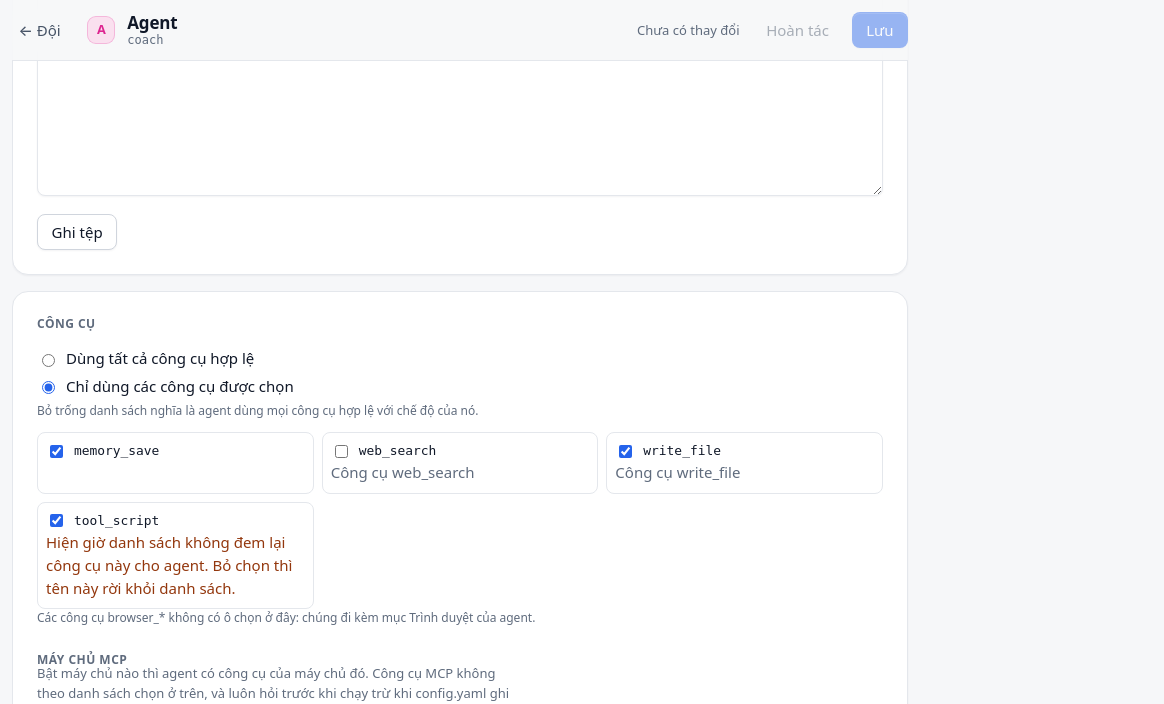
Test: the chosen list, when it is switched on › goes back to the list the file has, as it is written, after a detour through every tool
The image size is (1164, 704).
(page scrolled)
Step 1. Click the radio button labelled "Dùng tất cả công cụ hợp lệ" → {"x": 48, "y": 360}, box [42,354,55,367]
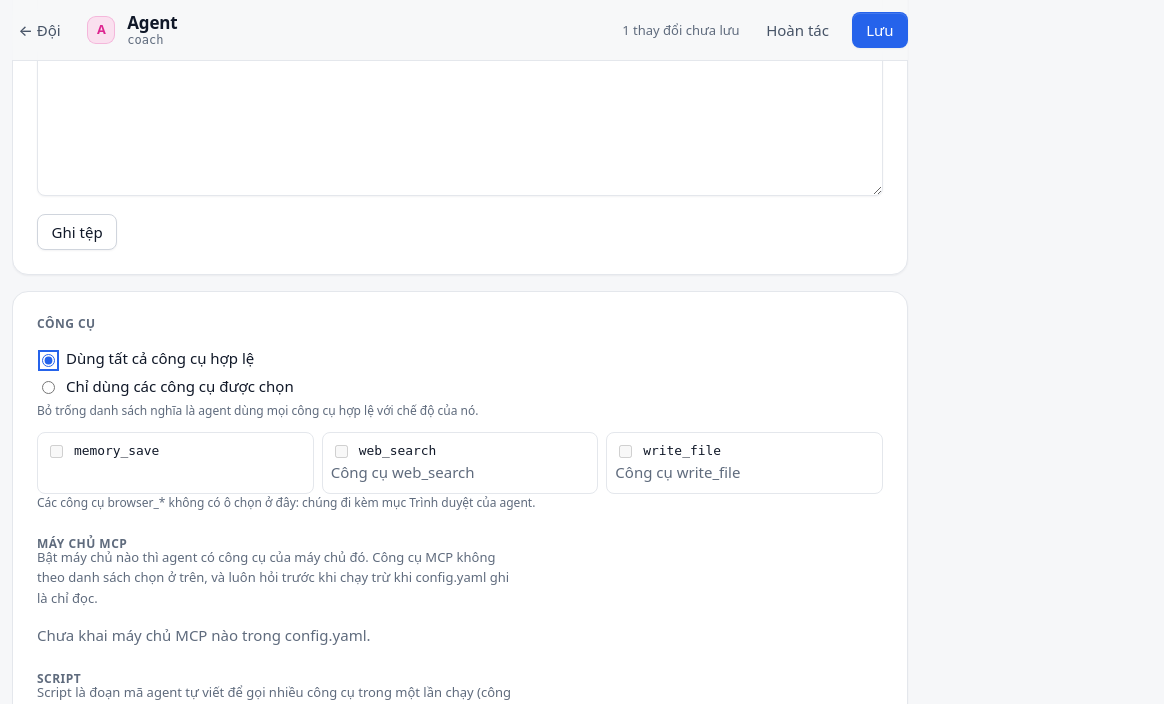
Step 2. Click the radio button labelled "Chỉ dùng các công cụ được chọn" → {"x": 48, "y": 388}, box [42,381,55,394]
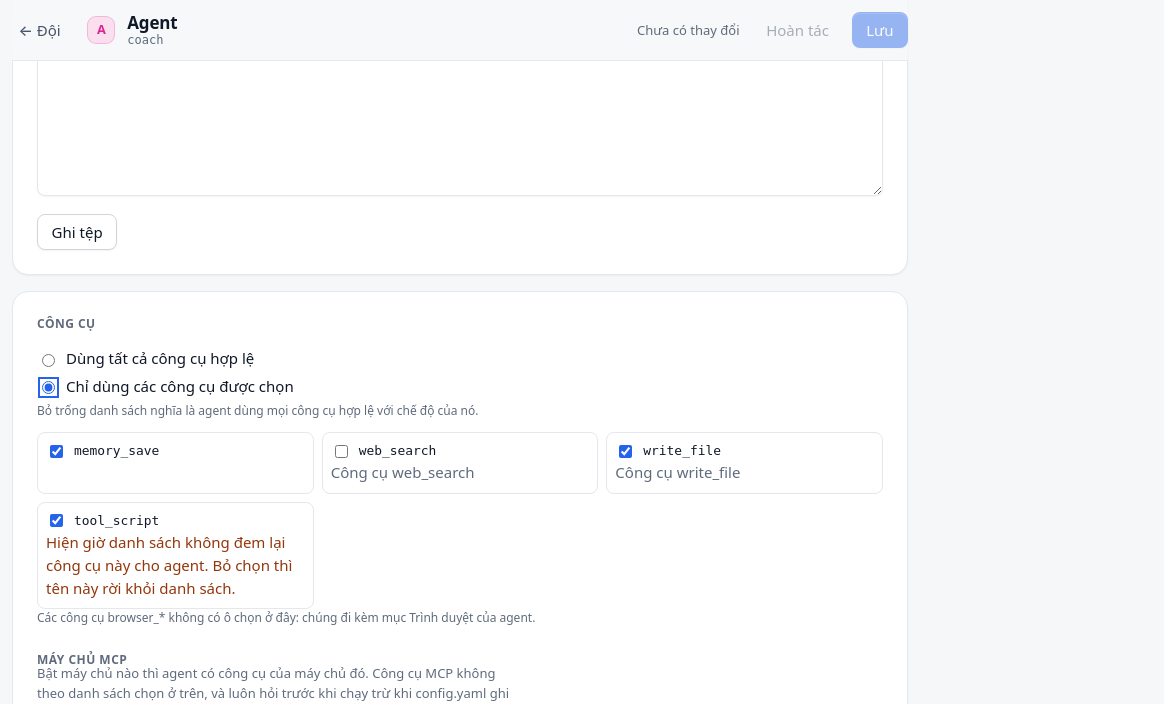
Check: the text "Chưa có thay đổi" is shown, box [637,20,740,40]
